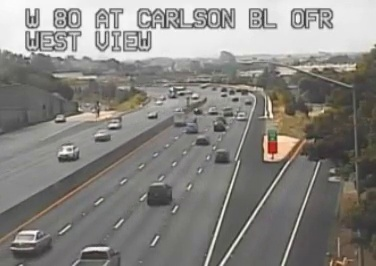car: (10, 230, 51, 254), (147, 183, 172, 203), (215, 149, 229, 163), (195, 135, 208, 146)
